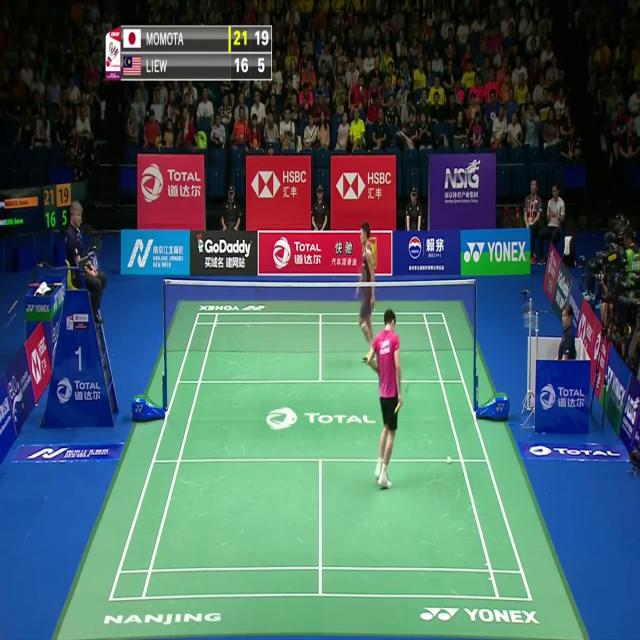Shuttlecock: (446, 453, 452, 464)
